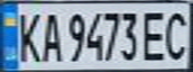3: (118, 8, 142, 62)
4: (84, 8, 106, 62)
7: (103, 8, 124, 62)
9: (63, 8, 87, 62)
A: (36, 8, 63, 63)
C: (160, 6, 193, 61)
E: (139, 7, 172, 62)
K: (12, 8, 42, 63)
